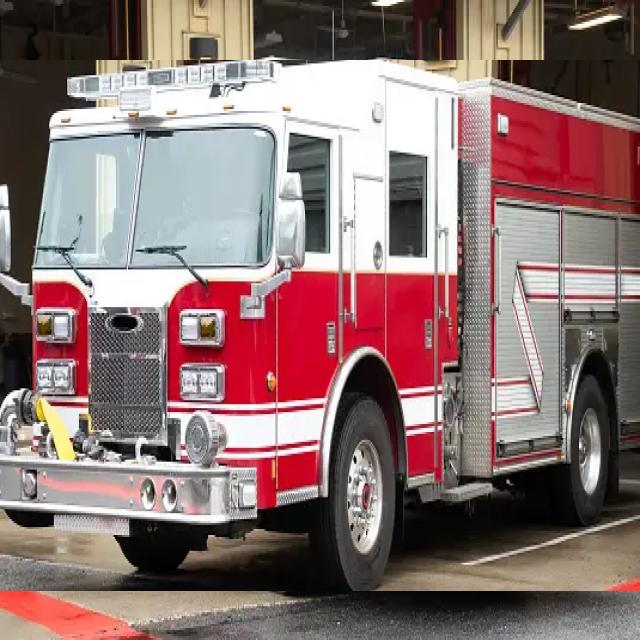emergency: (0, 60, 640, 591)
